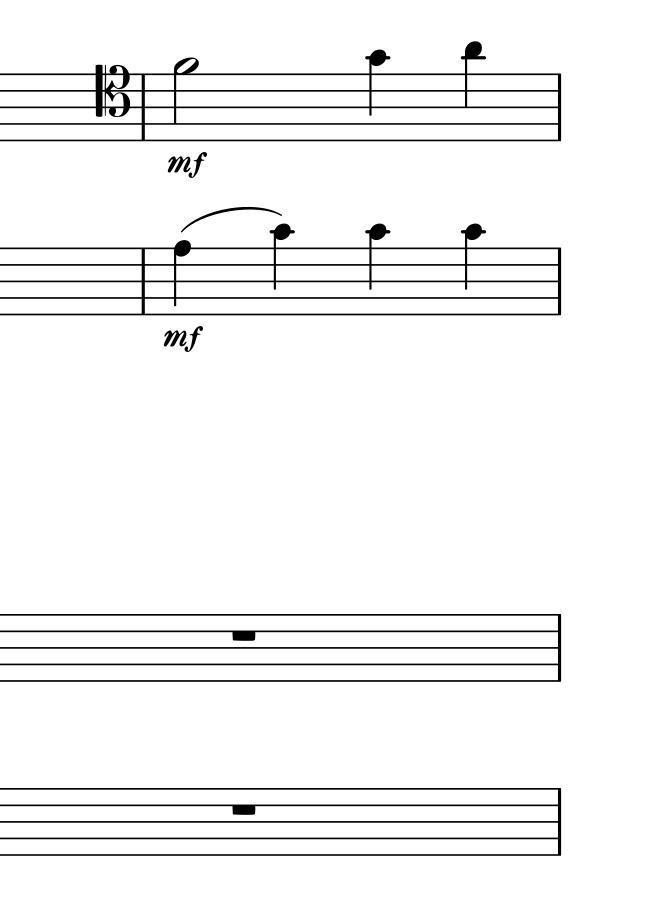2_9: (172, 56, 202, 143)
4_10: (366, 48, 391, 144), (365, 223, 390, 317), (270, 222, 293, 317), (461, 223, 483, 316)
4_11: (460, 40, 484, 145)
4_8: (170, 240, 195, 319)
Rests1: (229, 799, 260, 819), (229, 625, 260, 644)
Single_barline: (544, 614, 571, 681), (546, 247, 570, 315), (546, 788, 570, 854), (134, 247, 157, 315), (134, 72, 155, 142), (548, 73, 569, 142)
Slur: (178, 207, 281, 234)
Tensor_Cclef: (94, 61, 129, 142)
mf: (165, 149, 210, 182), (161, 322, 203, 354)
